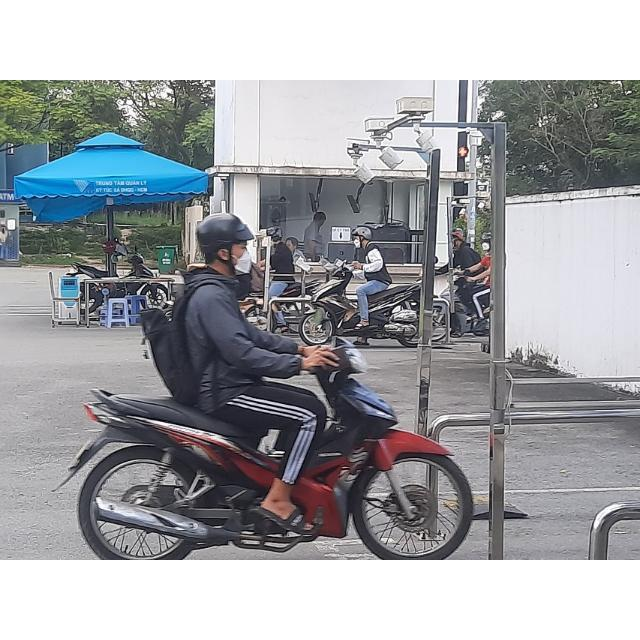Helmet: (194, 212, 256, 280)
